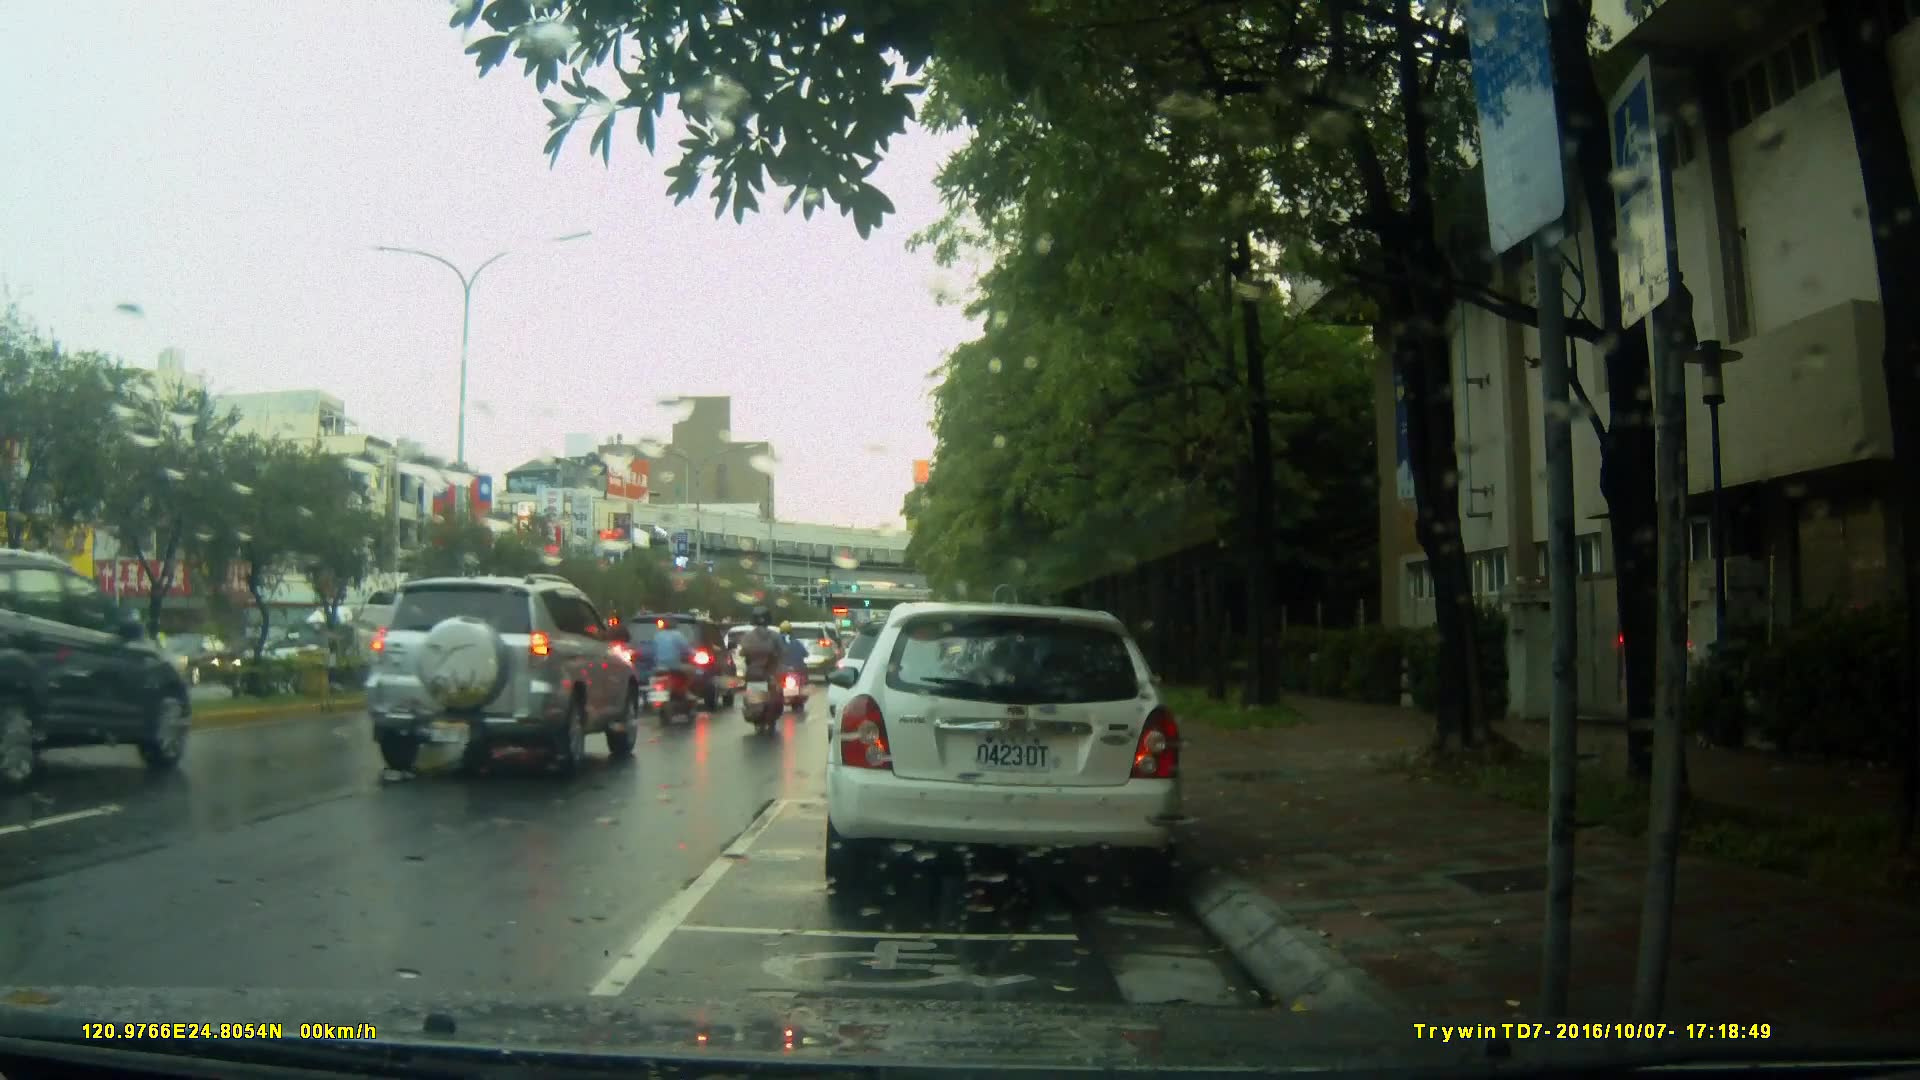rider: (734, 606, 789, 733), (651, 616, 700, 722), (769, 618, 809, 714)
vehicle: (820, 602, 1188, 898), (353, 570, 641, 775), (1, 546, 198, 792), (613, 611, 739, 712)
